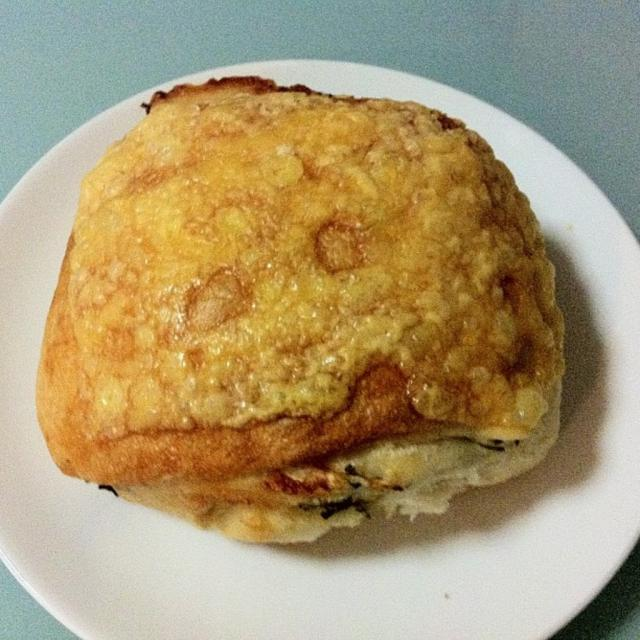Sandwich: (35, 70, 558, 546)
